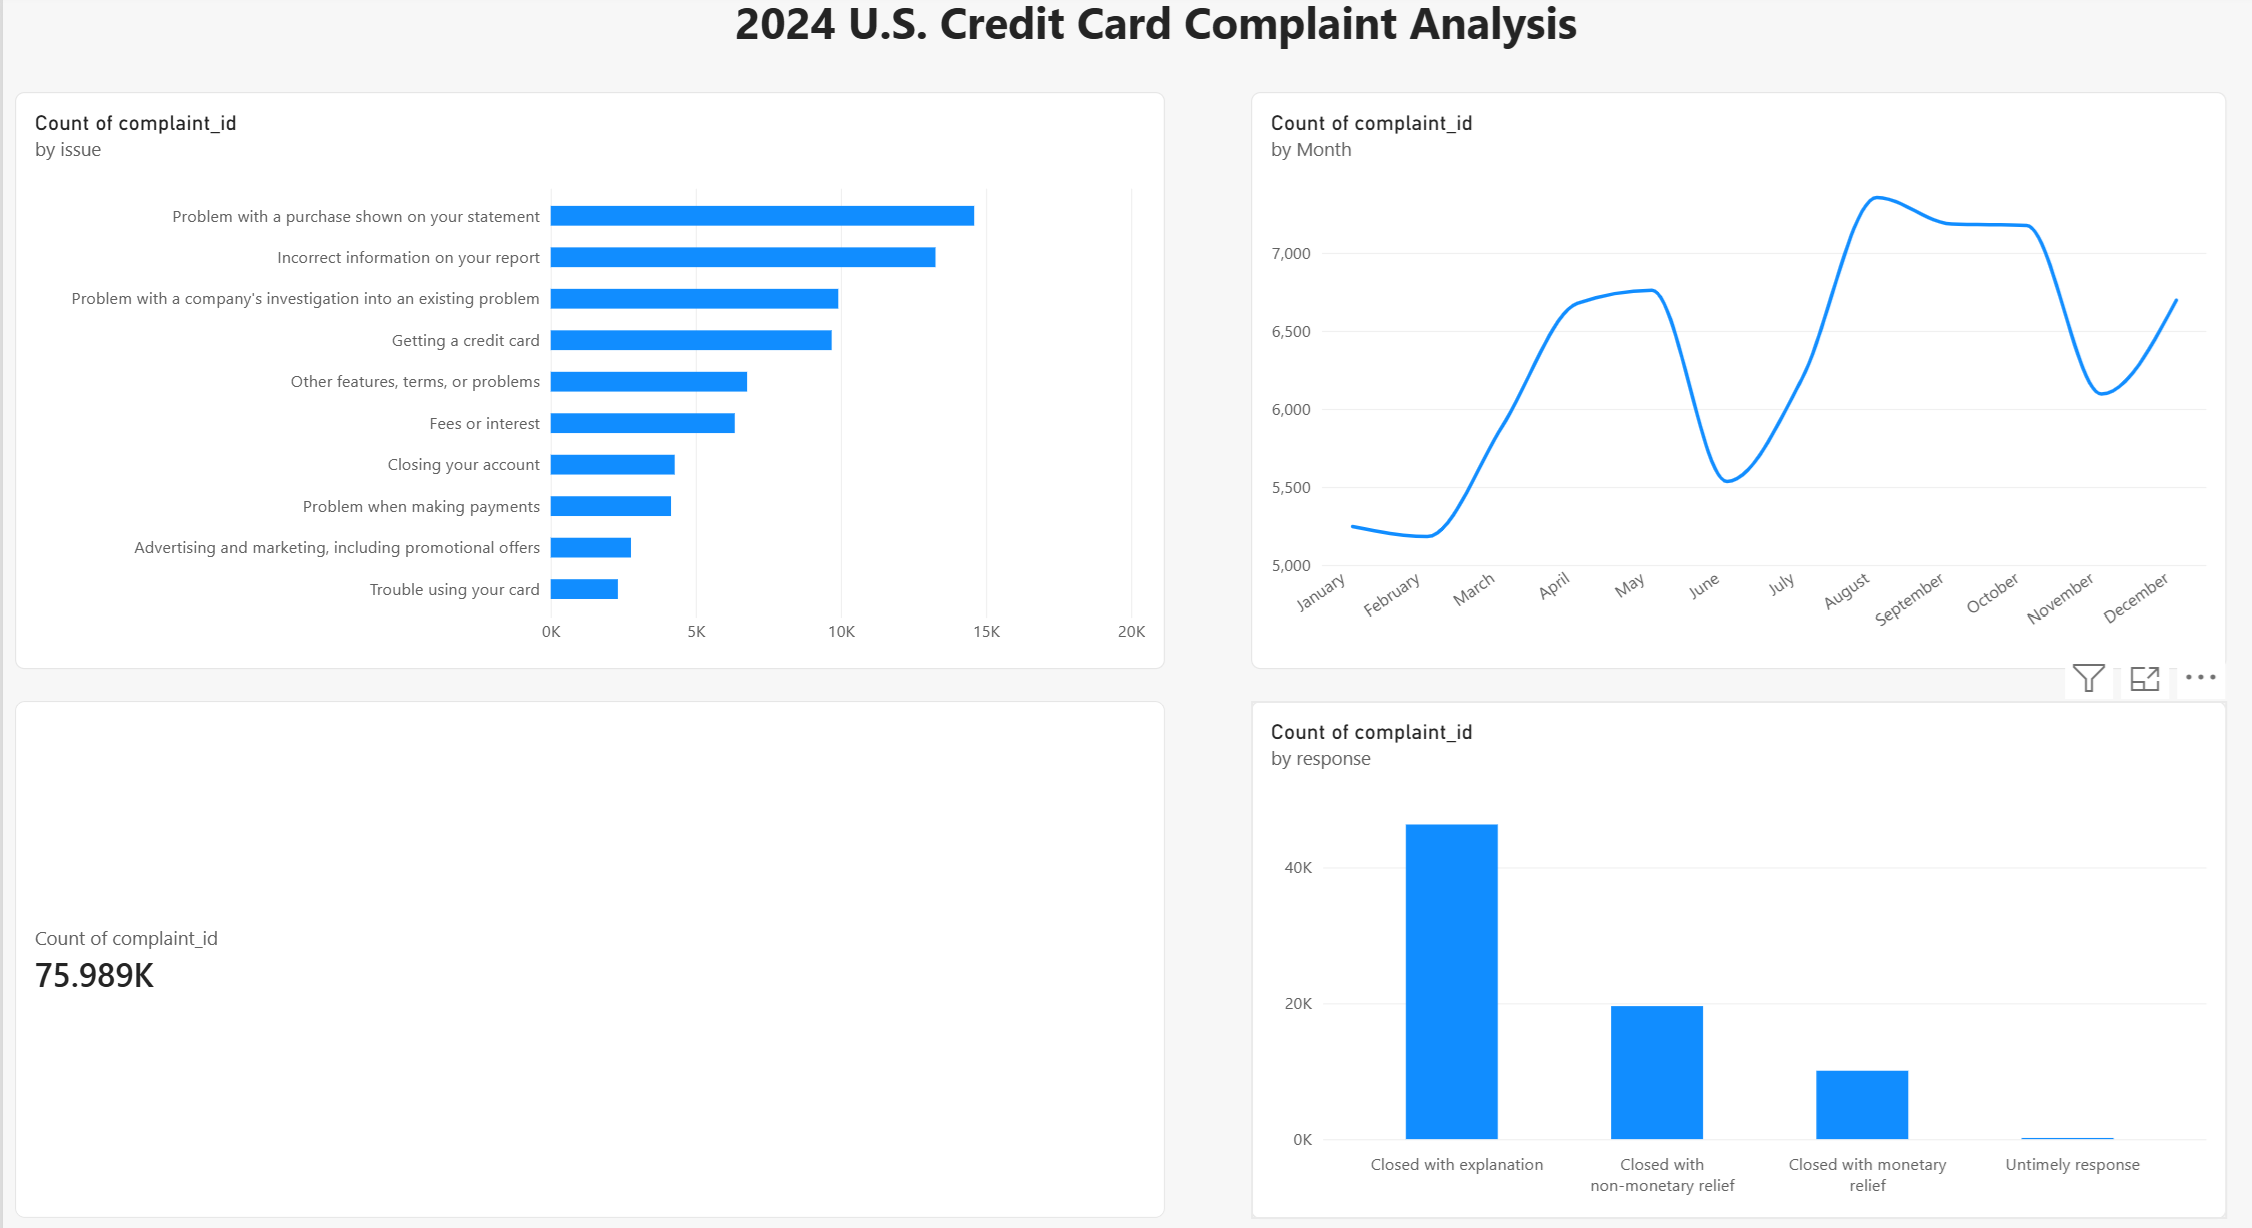

What the dashboard file says about the page in this screenshot:
{"tool":"powerbi","page":{"name":"Page 1","canvas":[1920,1080],"ordinal":0},"visuals":[{"type":"clusteredBarChart","fields":{"Category":["credit_card_complaints_2024_clean.issue"],"Y":["CountNonNull(credit_card_complaints_2024_clean.complaint_id)"]},"box":[9.6,86.1,981,491.5],"z":0},{"type":"lineChart","fields":{"Category":["credit_card_complaints_2024_clean.month.Variation.Date Hierarchy.Month"],"Y":["CountNonNull(credit_card_complaints_2024_clean.complaint_id)"]},"box":[1065.2,86.1,831.9,491.5],"z":1000},{"type":"cardVisual","fields":{"Data":["CountNonNull(credit_card_complaints_2024_clean.complaint_id)"]},"box":[9.6,604.3,491.5,441.8],"z":2000},{"type":"clusteredColumnChart","fields":{"Category":["credit_card_complaints_2024_clean.response"],"Y":["CountNonNull(credit_card_complaints_2024_clean.complaint_id)"]},"box":[1065.2,604.3,831.9,441.8],"z":2001},{"type":"textbox","box":[613.9,0,795.5,63.1],"z":2002}]}

Visuals, with their boxes on the page's 1920x1080 design canvas (x1, y1, x2, y2). These are canvas units, not pixel positions in the 2252x1228 screenshot, which may show the page scaled, cropped or inside an application window:
clusteredBarChart - credit_card_complaints_2024_clean.issue x CountNonNull(credit_card_complaints_2024_clean.complaint_id): region(10, 86, 991, 578)
lineChart - credit_card_complaints_2024_clean.month.Variation.Date Hierarchy.Month x CountNonNull(credit_card_complaints_2024_clean.complaint_id): region(1065, 86, 1897, 578)
cardVisual - CountNonNull(credit_card_complaints_2024_clean.complaint_id): region(10, 604, 501, 1046)
clusteredColumnChart - credit_card_complaints_2024_clean.response x CountNonNull(credit_card_complaints_2024_clean.complaint_id): region(1065, 604, 1897, 1046)
textbox: region(614, 0, 1409, 63)
